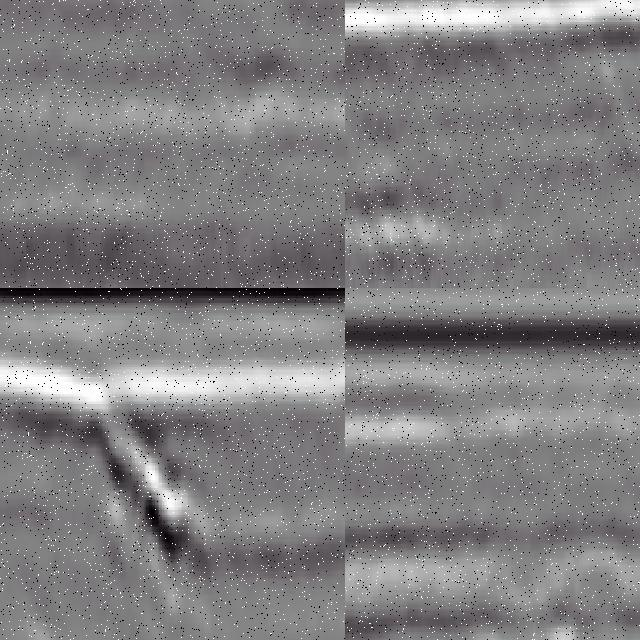loose: (91, 385, 221, 585), (346, 492, 440, 640), (346, 150, 422, 269)
